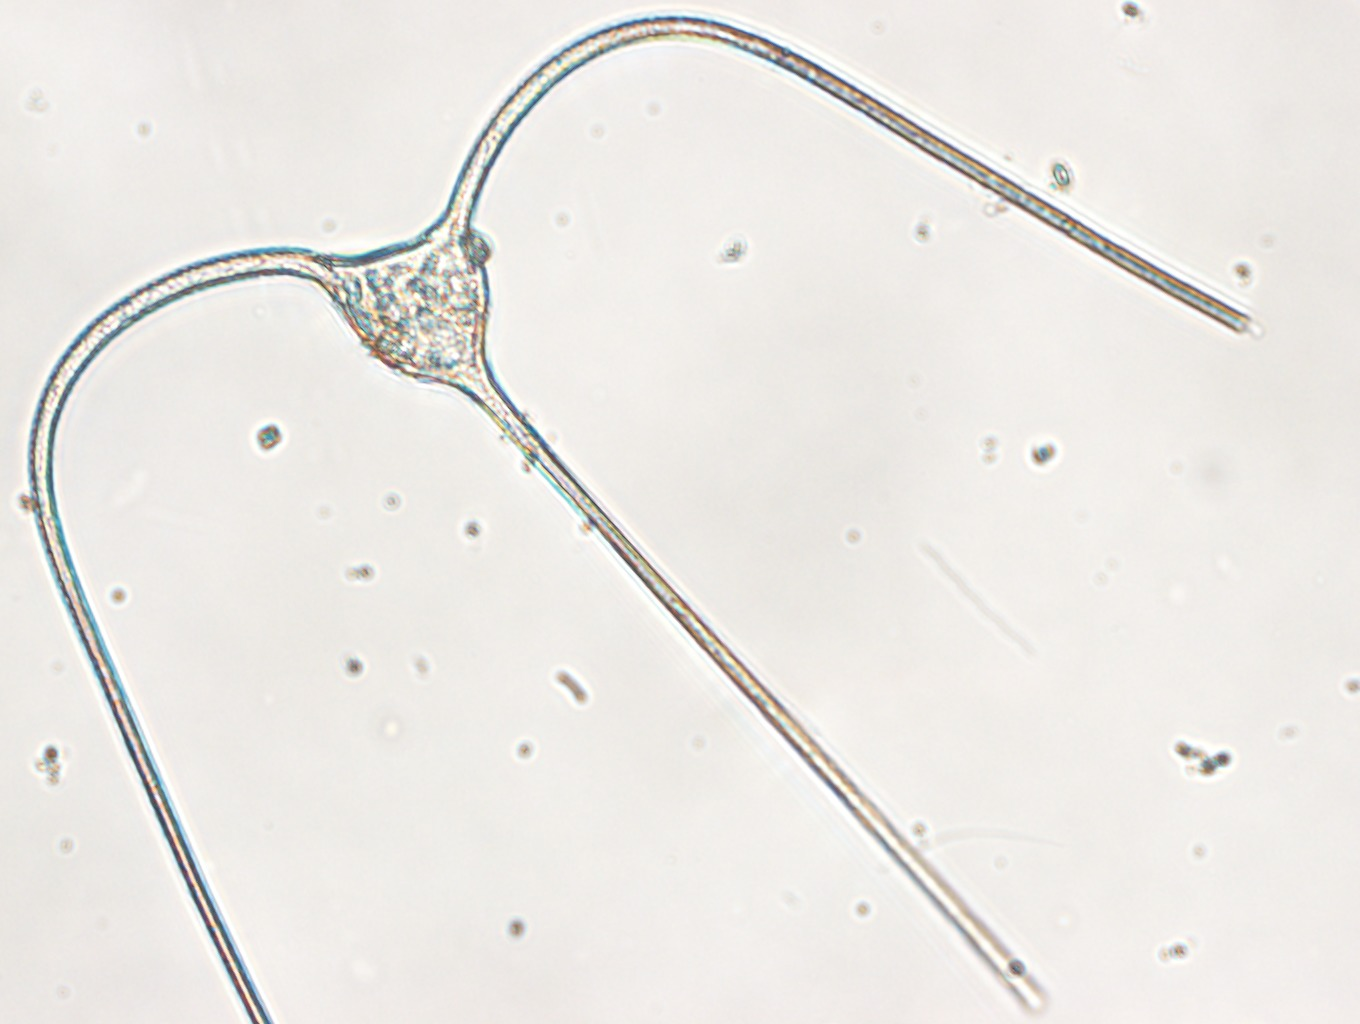ceratium trichoceros: (27, 10, 1246, 1024)
